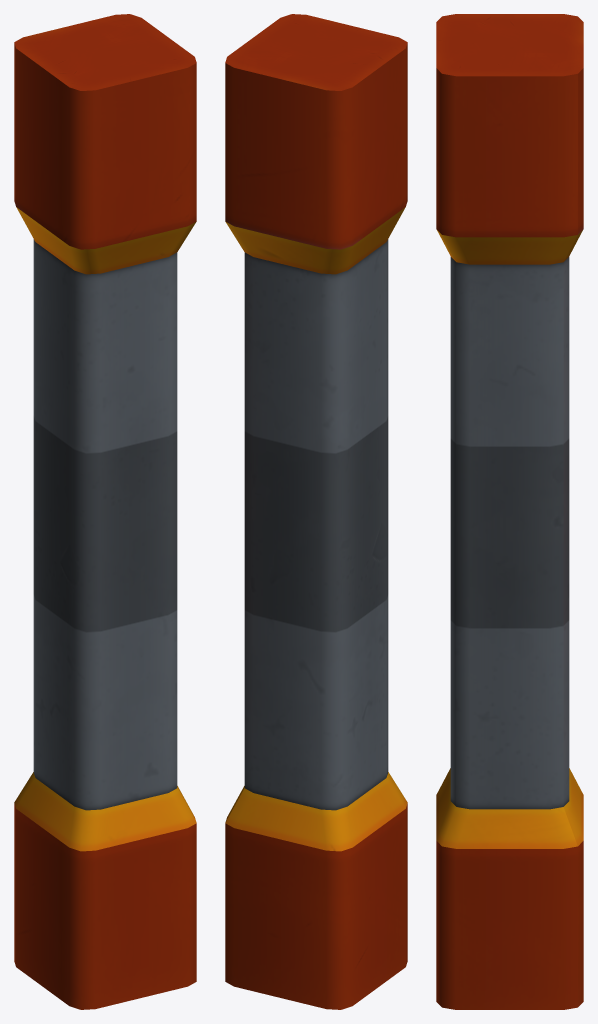
Rendered from obj_factory_building_collumn_01.fbx.
The picture shows the model from 3 angles, left to right: view 1: azimuth 30°, elevation 25°; view 2: azimuth 150°, elevation 25°; view 3: azimuth 270°, elevation 25°; orthographic projection.
Visible parts, largest first — view 1: obj_factory_building_collumn_01_lp; view 2: obj_factory_building_collumn_01_lp; view 3: obj_factory_building_collumn_01_lp.
Boxes of the visible parts, bbox=[...] form: obj_factory_building_collumn_01_lp: bbox=[14, 14, 196, 1009]; obj_factory_building_collumn_01_lp: bbox=[225, 14, 407, 1009]; obj_factory_building_collumn_01_lp: bbox=[436, 14, 583, 1009].
Size of the model in its own units: 2 by 14 by 2.
